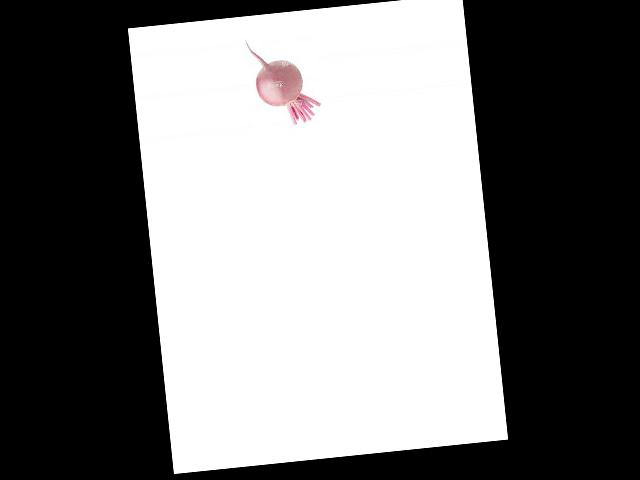beet: (245, 34, 322, 128)
